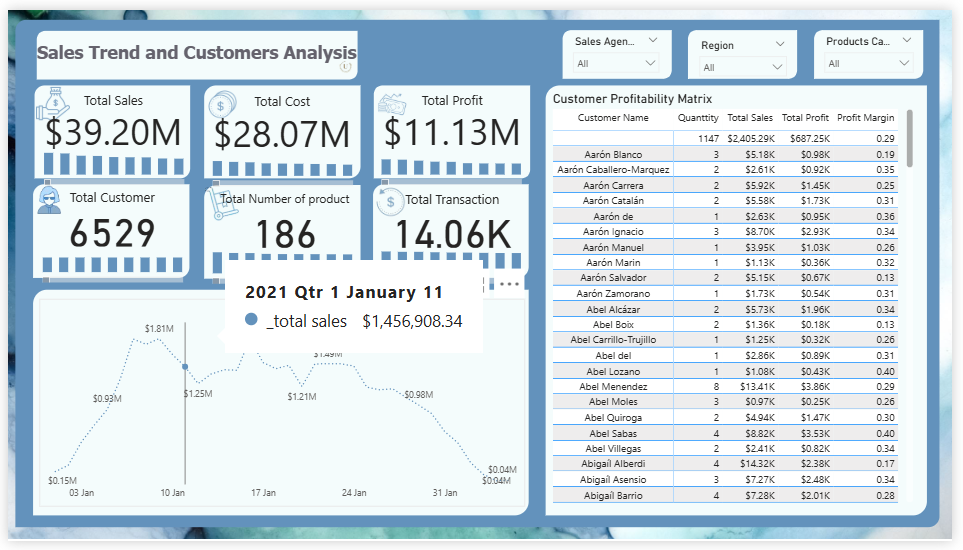

The page's visual inventory and layout, read from the dashboard file:
{"tool":"powerbi","page":{"name":"2","canvas":[1280,720],"ordinal":1},"visuals":[{"type":"textbox","box":[42.2,33.8,427.1,59.1],"z":0},{"type":"card","title":"Total Sales","fields":{"Values":["Sales Tiendas San Martin Janu#4._total sales"]},"box":[42.2,109.8,201.5,83.2],"z":1000},{"type":"clusteredColumnChart","fields":{"Category":["Products.Products"],"Y":["Sales Tiendas San Martin Janu#4._total sales"]},"box":[43.4,179.8,200.3,62.7],"z":2000},{"type":"card","title":"Total Cost","fields":{"Values":["Sales Tiendas San Martin Janu#4._total cost"]},"box":[271.3,111.1,201.5,83.2],"z":3000},{"type":"clusteredColumnChart","fields":{"Category":["Products.Products"],"Y":["Sales Tiendas San Martin Janu#4._total cost"]},"box":[272.5,181.1,200.3,62.7],"z":4000},{"type":"card","title":"Total Customer","fields":{"Values":["Count(Customers.Customer Name)"]},"box":[40.6,242.4,201.5,83.2],"z":5000},{"type":"clusteredColumnChart","fields":{"Category":["Products.Products"],"Y":["Sales Tiendas San Martin Janu#4._profit margin"]},"box":[41.9,312.3,200.3,62.7],"z":6000},{"type":"card","title":"Total Number of product","fields":{"Values":["Products.-PRODUCT COUNT"]},"box":[273.9,243.7,201.5,83.2],"z":7000},{"type":"clusteredColumnChart","fields":{"Category":["Products.Products"],"Y":["Sales Tiendas San Martin Janu#4._average delayed period"]},"box":[273.5,313.3,200.3,62.7],"z":8000},{"type":"card","title":"Total Profit","fields":{"Values":["Sales Tiendas San Martin Janu#4._total profit"]},"box":[501,110.1,201.5,83.2],"z":9000},{"type":"clusteredColumnChart","fields":{"Category":["Products.Products"],"Y":["Sales Tiendas San Martin Janu#4._total profit"]},"box":[502.2,180.1,200.3,62.7],"z":10000},{"type":"card","title":"Total Transaction","fields":{"Values":["CountNonNull(Sales Tiendas San Martin Janu#4.Invoice Date)"]},"box":[501,244.3,201.5,83.2],"z":11000},{"type":"clusteredColumnChart","fields":{"Category":["Products.Products"],"Y":["Sales Tiendas San Martin Janu#4._avg unit price"]},"box":[502.2,314.3,200.3,62.7],"z":12000},{"type":"pivotTable","title":"DH,HGNBFVFFB","fields":{"Values":["Sum(Sales Tiendas San Martin Janu#4.Quanttity)","Sales Tiendas San Martin Janu#4._total sales","Sales Tiendas San Martin Janu#4._total profit","Sales Tiendas San Martin Janu#4._profit margin"],"Rows":["Customers.Customer Name"]},"box":[734.7,111,498.3,562.2],"z":13000},{"type":"lineChart","title":"Sales Trend","fields":{"Y":["Sales Tiendas San Martin Janu#4._total sales"],"Category":["Sales Tiendas San Martin Janu#4.Invoice Date.Variation.Date Hierarchy.Year","Sales Tiendas San Martin Janu#4.Invoice Date.Variation.Date Hierarchy.Quarter","Sales Tiendas San Martin Janu#4.Invoice Date.Variation.Date Hierarchy.Month","Sales Tiendas San Martin Janu#4.Invoice Date.Variation.Date Hierarchy.Day"]},"box":[42.2,392.1,659.9,281.1],"z":14000},{"type":"slicer","fields":{"Values":["Products.Products Category"]},"box":[1096.7,29,141.2,63.9],"z":15000},{"type":"slicer","fields":{"Values":["Locations.Region"]},"box":[927.8,33.8,138.7,59.1],"z":16000},{"type":"slicer","fields":{"Values":["Sales Agents.Sales Agent Name"]},"box":[756.4,29,137.5,63.9],"z":17000},{"type":"card","box":[144.2,314.3,426,300],"z":18000}]}

Visuals, with their boxes in screenshot pixels (x1, y1, x2, y2), scaled from the page's 1280x720 canvas onto the 963x550 screenshot:
textbox: <box>32,26,353,71</box>
"Total Sales" card: <box>32,84,183,147</box>
clusteredColumnChart - Products.Products x Sales Tiendas San Martin Janu#4._total sales: <box>33,137,183,185</box>
"Total Cost" card: <box>204,85,356,148</box>
clusteredColumnChart - Products.Products x Sales Tiendas San Martin Janu#4._total cost: <box>205,138,356,186</box>
"Total Customer" card: <box>31,185,182,249</box>
clusteredColumnChart - Products.Products x Sales Tiendas San Martin Janu#4._profit margin: <box>32,239,182,286</box>
"Total Number of product" card: <box>206,186,358,250</box>
clusteredColumnChart - Products.Products x Sales Tiendas San Martin Janu#4._average delayed period: <box>206,239,356,287</box>
"Total Profit" card: <box>377,84,529,148</box>
clusteredColumnChart - Products.Products x Sales Tiendas San Martin Janu#4._total profit: <box>378,138,529,185</box>
"Total Transaction" card: <box>377,187,529,250</box>
clusteredColumnChart - Products.Products x Sales Tiendas San Martin Janu#4._avg unit price: <box>378,240,529,288</box>
"DH,HGNBFVFFB" pivotTable: <box>553,85,928,514</box>
"Sales Trend" lineChart: <box>32,300,528,514</box>
slicer - Products.Products Category: <box>825,22,931,71</box>
slicer - Locations.Region: <box>698,26,802,71</box>
slicer - Sales Agents.Sales Agent Name: <box>569,22,673,71</box>
card: <box>108,240,429,469</box>
